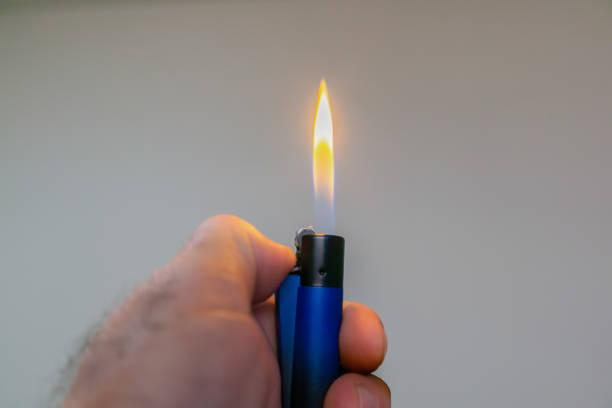Fire: (308, 71, 341, 235)
